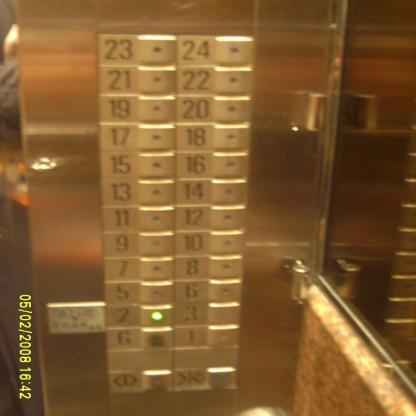1: (175, 323, 242, 351)
10: (174, 229, 249, 258)
11: (98, 204, 174, 234)
12: (174, 204, 249, 235)
13: (96, 179, 176, 208)
14: (174, 178, 250, 209)
15: (96, 150, 176, 183)
16: (176, 150, 253, 181)
17: (95, 122, 178, 154)
18: (176, 122, 254, 153)
19: (95, 93, 177, 125)
2: (98, 303, 173, 331)
20: (175, 93, 256, 126)
21: (91, 64, 177, 95)
22: (174, 67, 258, 95)
23: (94, 32, 179, 64)
24: (177, 33, 258, 65)
3: (174, 300, 242, 332)
5: (100, 280, 174, 308)
6: (173, 278, 245, 308)
7: (98, 254, 176, 284)
8: (175, 255, 245, 283)
9: (97, 231, 176, 261)
G: (100, 326, 174, 354)
close: (172, 364, 242, 393)
open: (104, 366, 172, 394)
